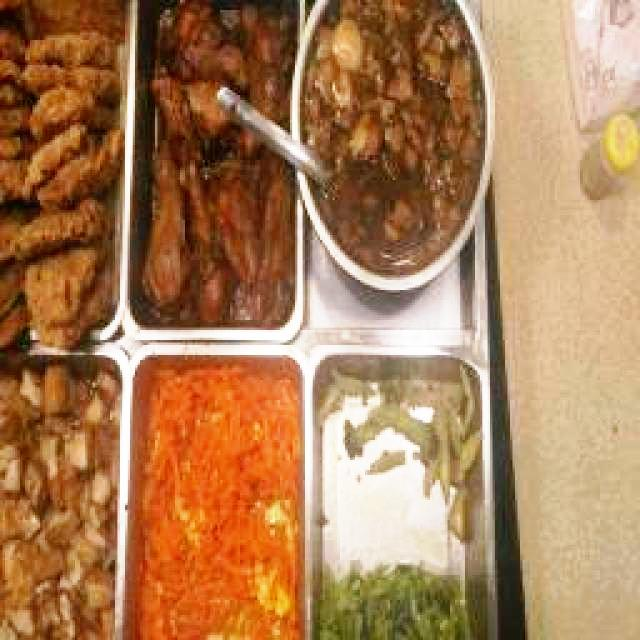carrot_eggs: (132, 355, 303, 638)
